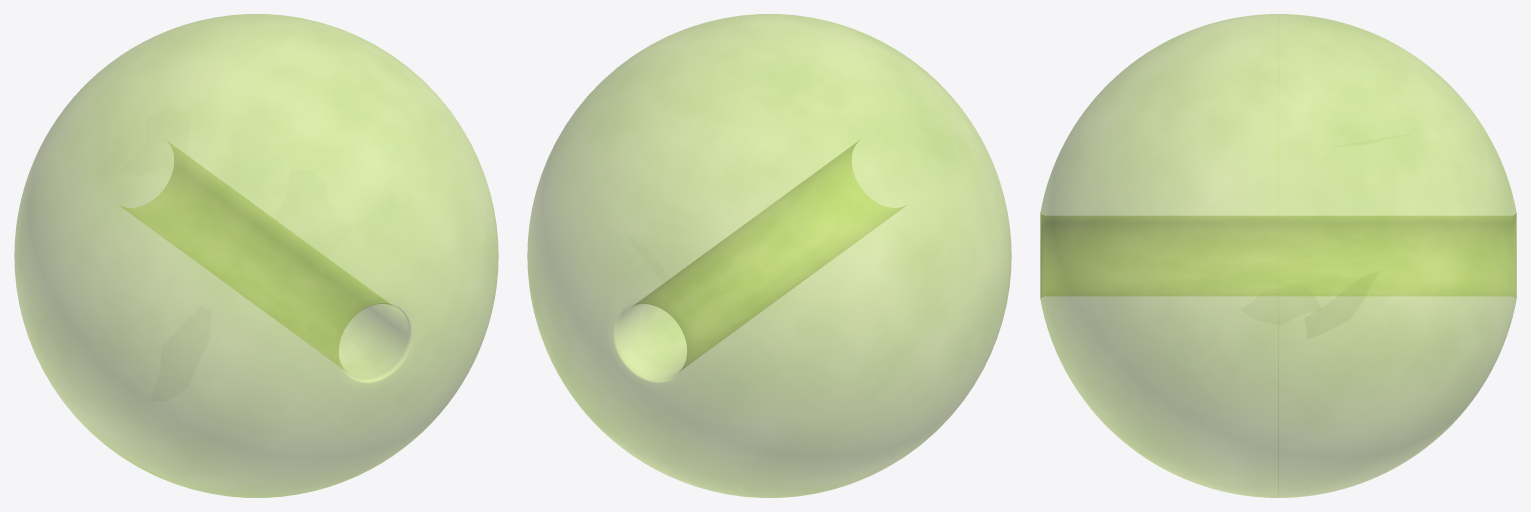
File: peridot-gem-6mm.glb
3 renders of one model, left to right at view 1: azimuth 30°, elevation 25°; view 2: azimuth 150°, elevation 25°; view 3: azimuth 270°, elevation 25°, orthographic.
Parts seen in each view (by area): view 1: peridot-gem.001; view 2: peridot-gem.001; view 3: peridot-gem.001.
Boxes of the visible parts, x1,y1,x2,y2 form: peridot-gem.001: [14, 14, 498, 497]; peridot-gem.001: [527, 14, 1011, 497]; peridot-gem.001: [1040, 14, 1516, 497].
Size of the model in its own units: 0.006 by 0.006 by 0.0059.
2 materials, 1 textured.
